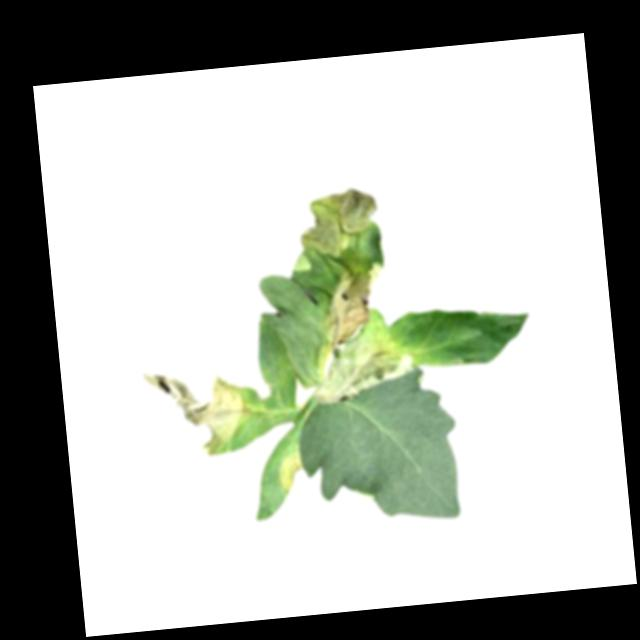Late_blight: (140, 359, 256, 464), (306, 306, 420, 405), (287, 184, 384, 269), (325, 262, 388, 312), (275, 451, 305, 495)
